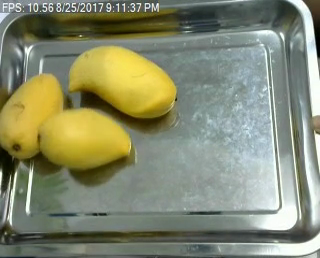Mango: (66, 42, 179, 120), (38, 105, 132, 171), (0, 69, 65, 163)
